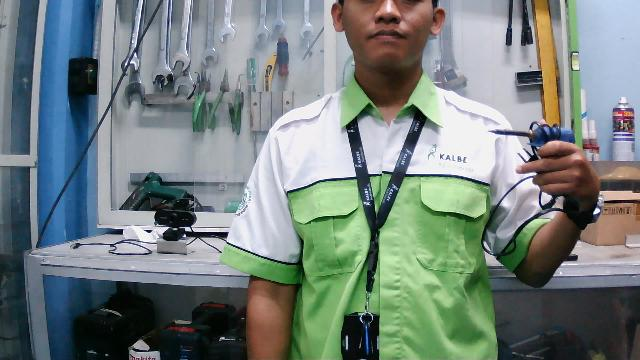solder_electrical: (483, 109, 579, 212)
